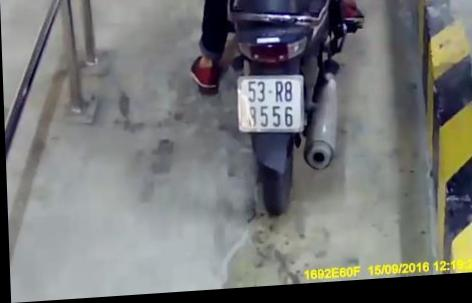License_Plate: (230, 69, 310, 140)
